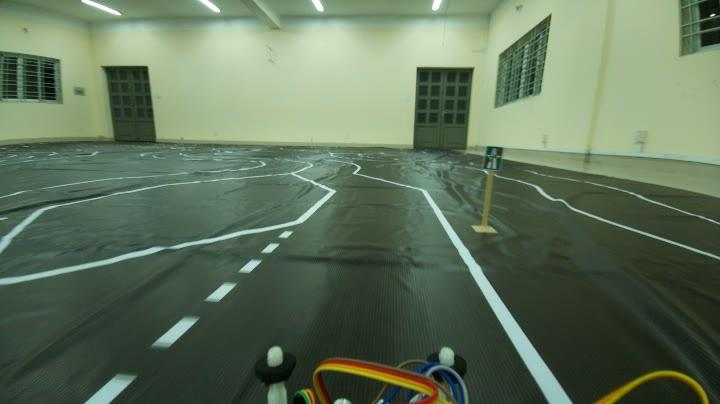highway_exit: (480, 143, 507, 175)
